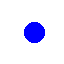circle: (24, 22, 44, 42)
